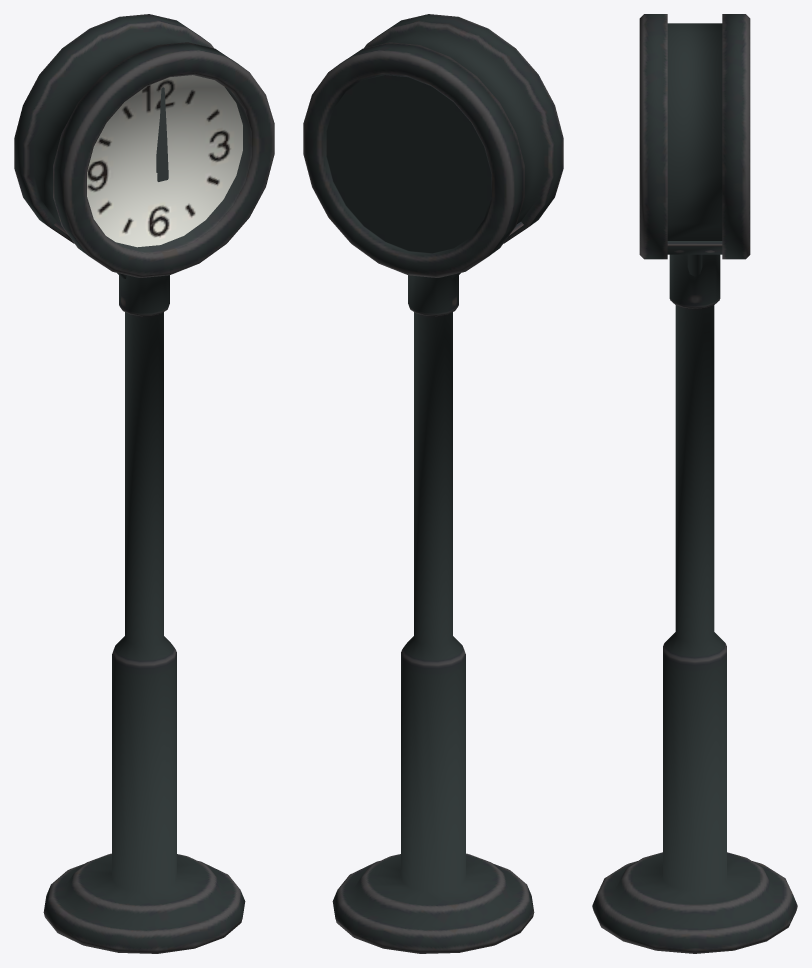
The model's file is park-clock.glb.
The picture shows the model from 3 angles, left to right: view 1: azimuth 30°, elevation 25°; view 2: azimuth 150°, elevation 25°; view 3: azimuth 270°, elevation 25°; orthographic projection.
Parts seen in each view (by area): view 1: body_low__mReBody; view 2: body_low__mReBody; view 3: body_low__mReBody.
Part boxes in pixels (x1,y1,x2,y2): body_low__mReBody: (14,14,274,953); body_low__mReBody: (303,14,563,953); body_low__mReBody: (592,14,797,953).
Size of the model in its own units: 0.6709 by 2.68 by 0.5631.
Materials: 2 (1 with a texture image).
